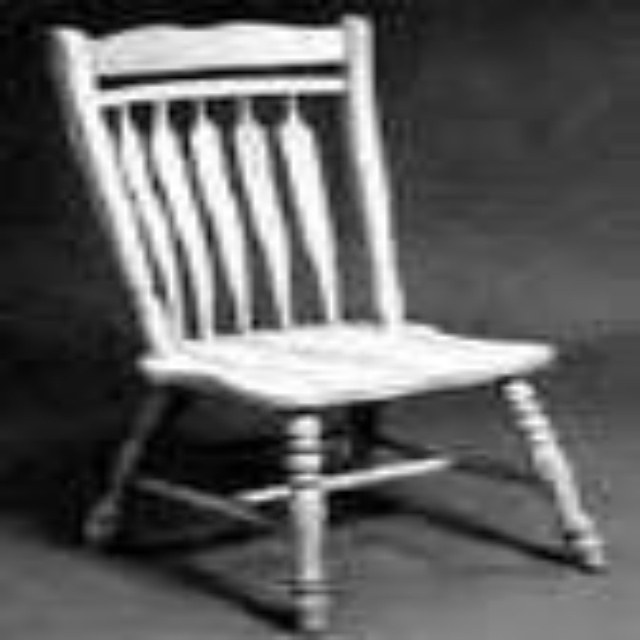obstacle: (53, 15, 549, 625)
